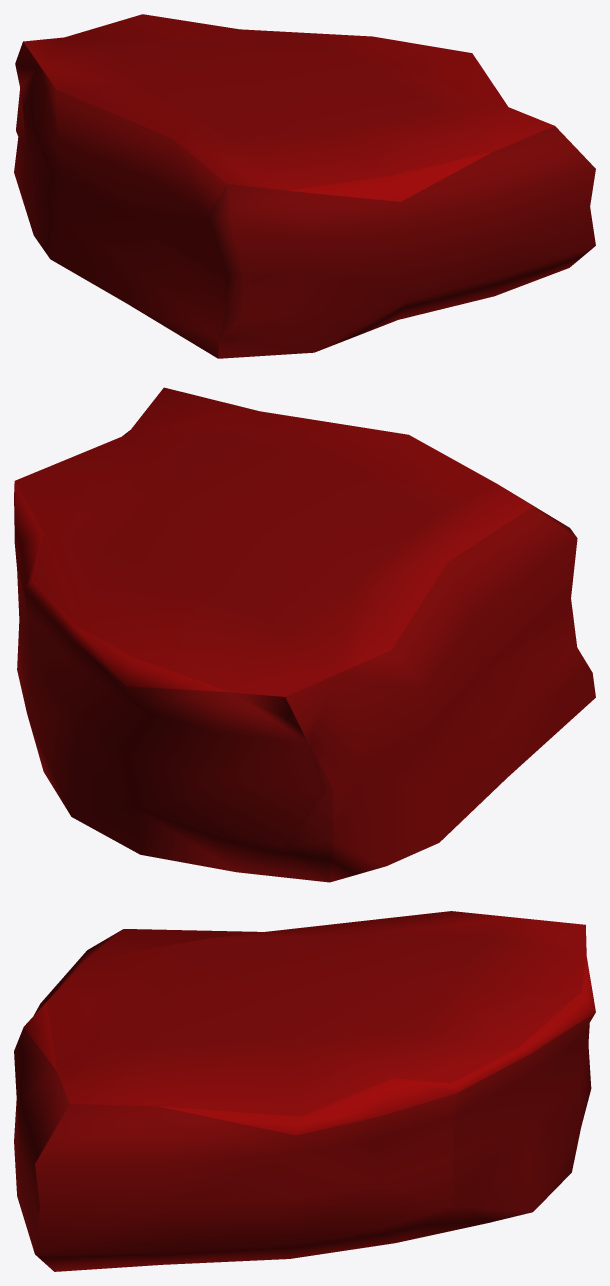
File: geology-rocks-rocksmall_v9.fbx
3 renders of one model, top to bottom at view 1: azimuth 30°, elevation 25°; view 2: azimuth 150°, elevation 25°; view 3: azimuth 270°, elevation 25°, orthographic. The views are drawn at different scales.
Visible parts, largest first — view 1: RockSmall_v9; view 2: RockSmall_v9; view 3: RockSmall_v9.
Boxes of the visible parts, x1=… form: RockSmall_v9: x1=14, y1=14, x2=595, y2=358; RockSmall_v9: x1=14, y1=387, x2=595, y2=882; RockSmall_v9: x1=14, y1=911, x2=595, y2=1271.
Size of the model in its own units: 1.65 by 0.675 by 1.84.
